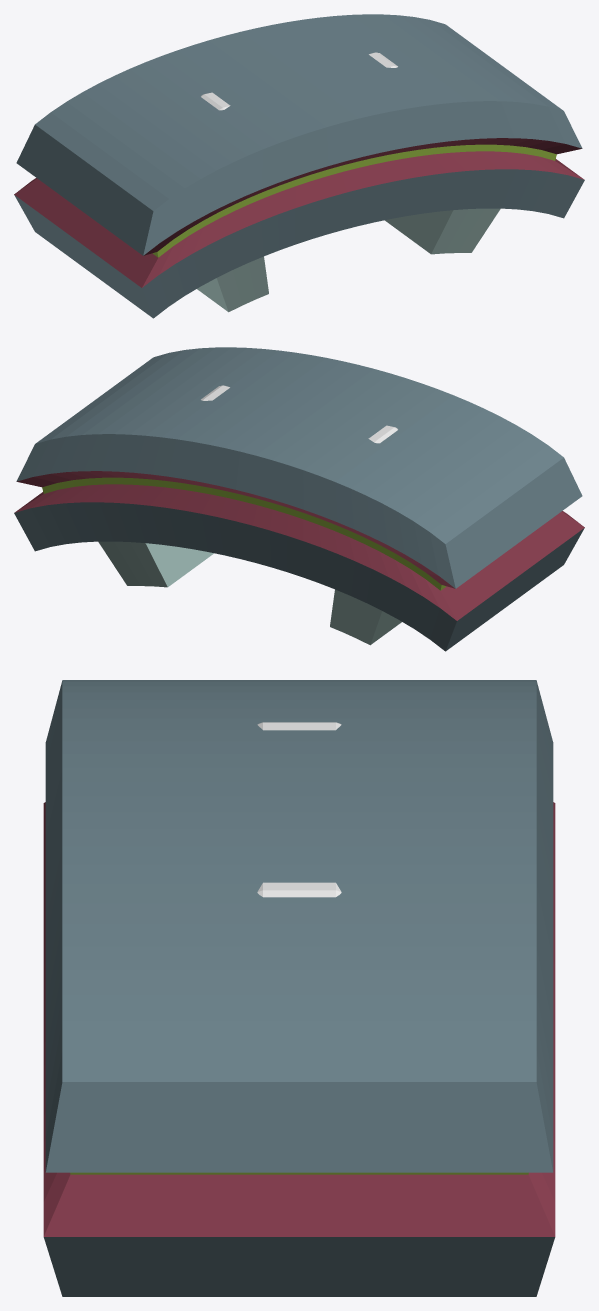
3 views of the same model, one above another, from view 1: azimuth 30°, elevation 25°; view 2: azimuth 150°, elevation 25°; view 3: azimuth 270°, elevation 25° (orthographic). The views are drawn at different scales.
Visible parts, largest first — view 1: Paddle, Brick; view 2: Paddle, Brick; view 3: Paddle, Brick.
Part boxes in pixels (x1,y1,x2,y2): Paddle: [14, 14, 584, 318]; Brick: [201, 52, 397, 110]; Paddle: [14, 347, 584, 651]; Brick: [201, 385, 397, 443]; Paddle: [43, 680, 555, 1296]; Brick: [257, 722, 341, 897].
Bounding box in the file's own units: 4.32 × 1.59 × 2.16.
